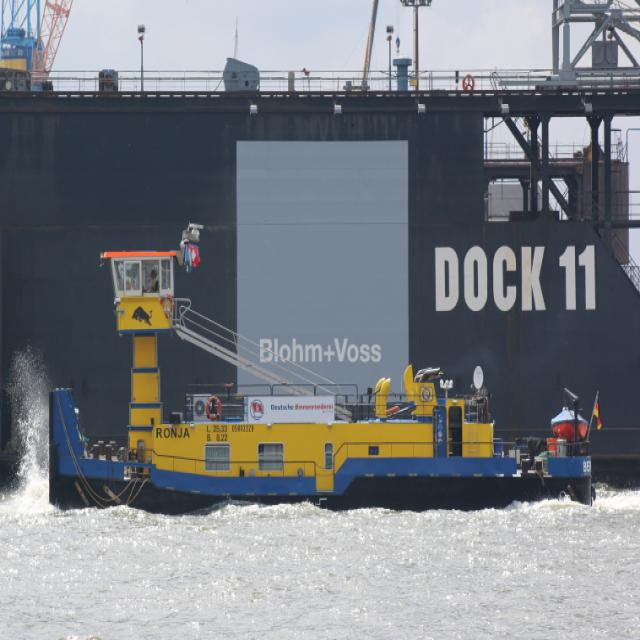tugboat: (48, 245, 601, 523)
